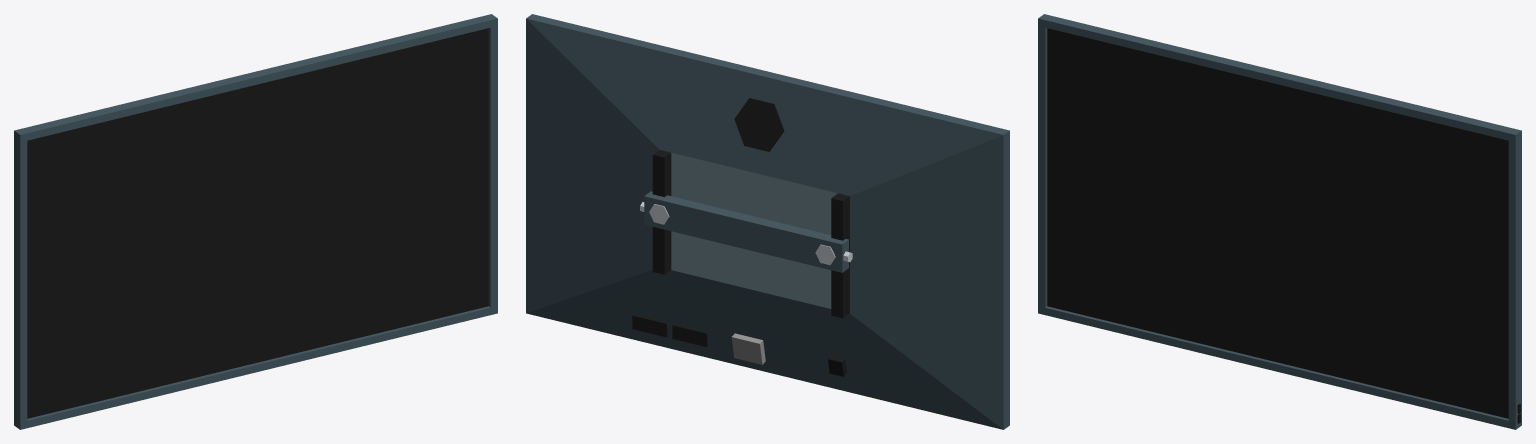
The picture shows the model from 3 angles, left to right: view 1: azimuth 30°, elevation 25°; view 2: azimuth 150°, elevation 25°; view 3: azimuth 330°, elevation 25°; orthographic projection.
Parts seen in each view (by area): view 1: mesh_1454904968; view 2: mesh_1454904968, mesh_596176051, group_1601593260, mesh_1257628551, mesh_1840578182, mesh_207519990, mesh_1468930754, mesh_1923268096; view 3: mesh_1454904968.
Boxes of the visible parts, box(x1,y1,x2,y2) form: mesh_1454904968: box(14, 14, 497, 429); mesh_1454904968: box(526, 14, 1009, 429); mesh_596176051: box(644, 191, 848, 272); group_1601593260: box(734, 98, 784, 151); mesh_1257628551: box(652, 150, 671, 274); mesh_1840578182: box(831, 193, 849, 318); mesh_207519990: box(731, 333, 765, 364); mesh_1468930754: box(632, 315, 668, 337); mesh_1923268096: box(672, 325, 708, 346); mesh_1454904968: box(1038, 14, 1521, 429).
Bounding box in the file's own units: 406 × 239 × 40.63.
